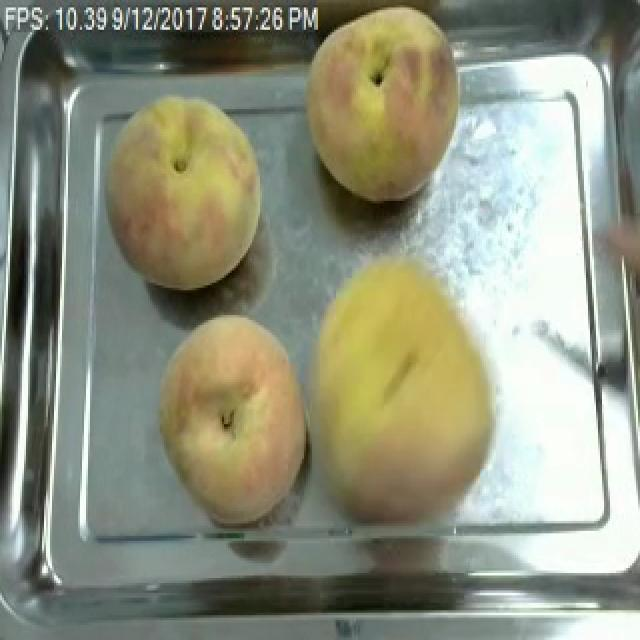Fruit: (292, 246, 510, 534), (294, 0, 474, 211), (150, 307, 318, 531), (98, 82, 272, 298)
